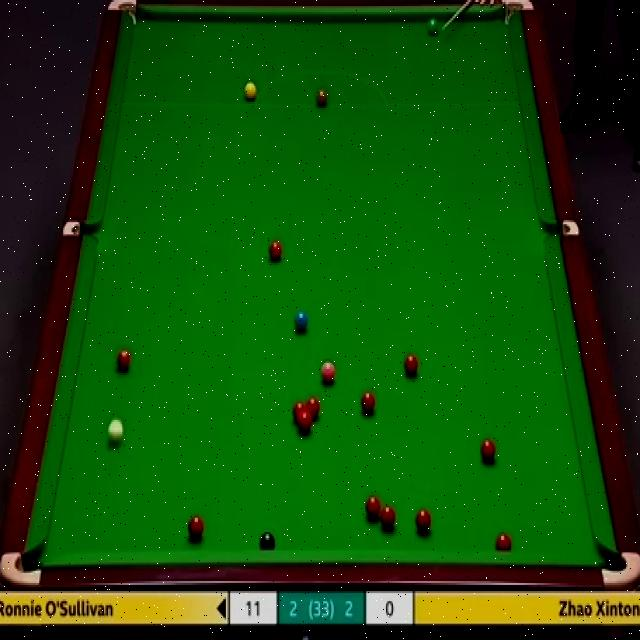black-ball: (259, 528, 277, 552)
blue-ball: (292, 309, 308, 334)
brown-ball: (314, 86, 328, 109)
green-ball: (425, 17, 441, 37)
pink-ball: (321, 357, 336, 385)
red-ball: (379, 501, 397, 532), (402, 352, 420, 381), (114, 346, 132, 373), (414, 508, 431, 536), (365, 494, 381, 521), (480, 438, 496, 464), (360, 390, 375, 416), (189, 514, 204, 540), (306, 397, 321, 422), (268, 239, 283, 263), (496, 531, 512, 552), (298, 414, 312, 434), (293, 401, 306, 422)
white-ball: (106, 415, 124, 446)
yellow-ball: (242, 81, 257, 101)
